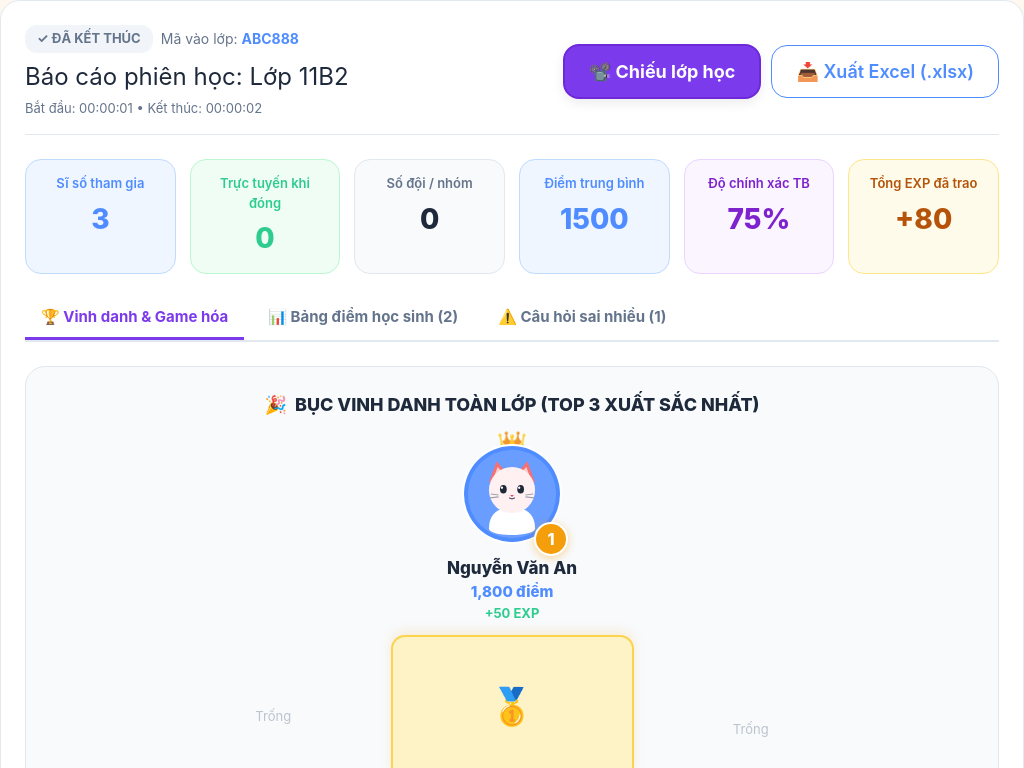
it: SessionReportView Component (Task 3.4) › renders gamification summary and projector mode (Task 5.4)
Note: Toggle Projector Mode
Click the button with test id "btn-projector-mode". click: (662, 72)
box: [563,44,762,99]
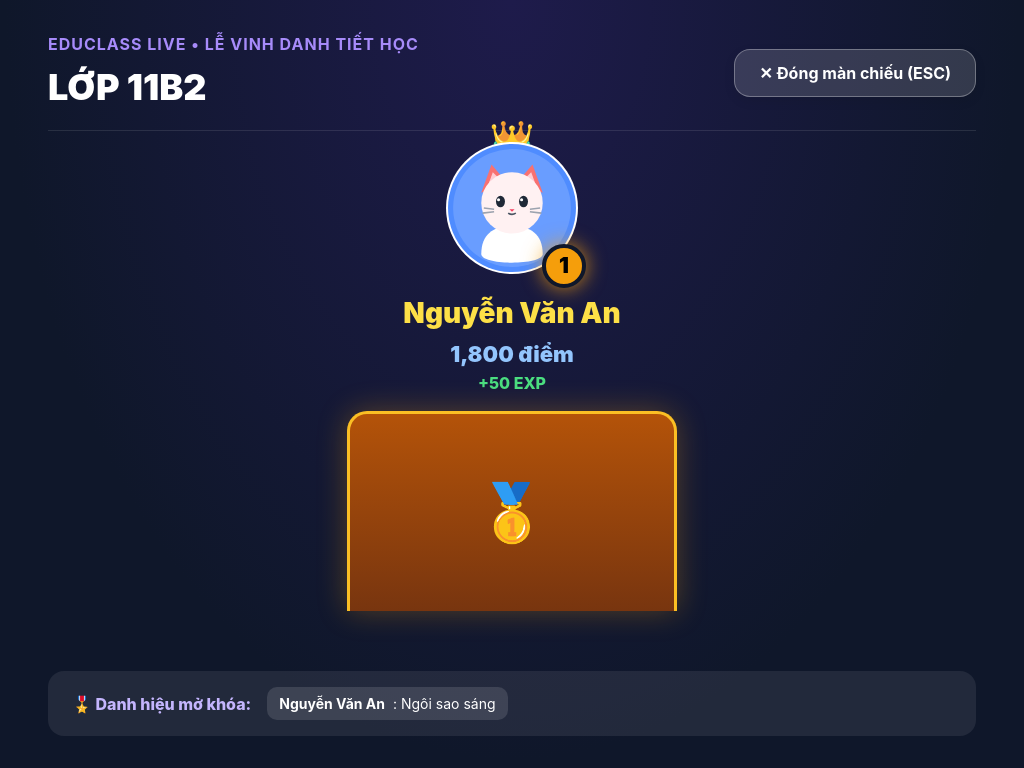
Expected: the element with test id "projector-overlay" is shown
Click the button with test id "btn-exit-projector". click: (855, 73)
box: [734,49,976,97]
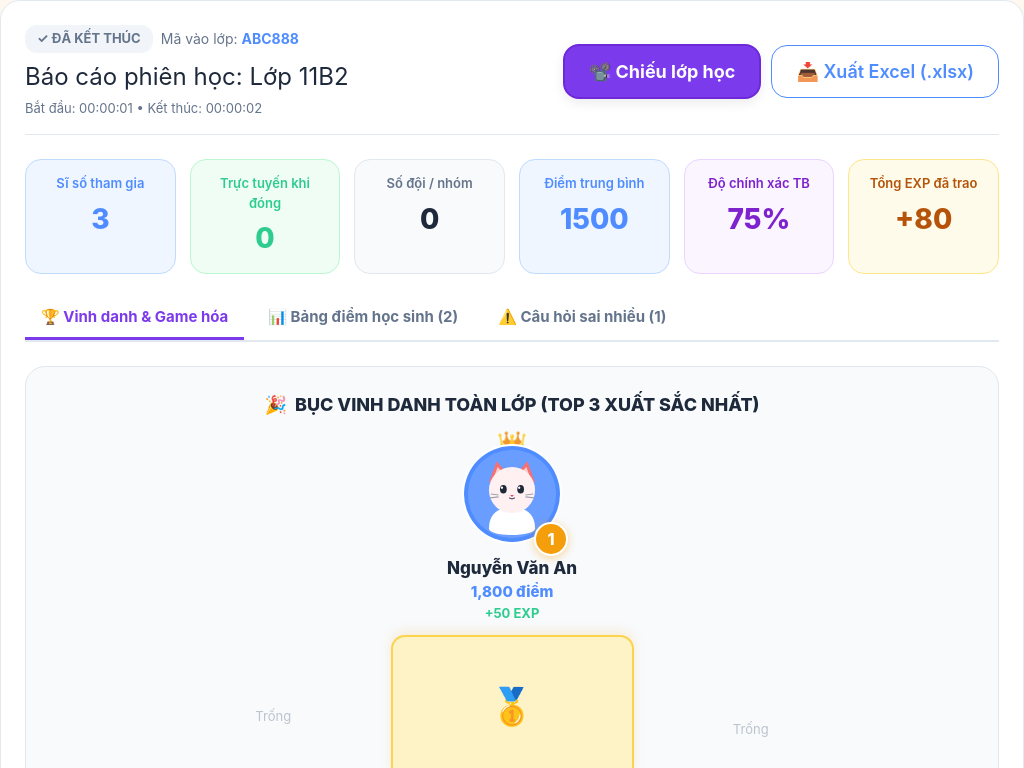
Expected: the element with test id "projector-overlay" is gone
